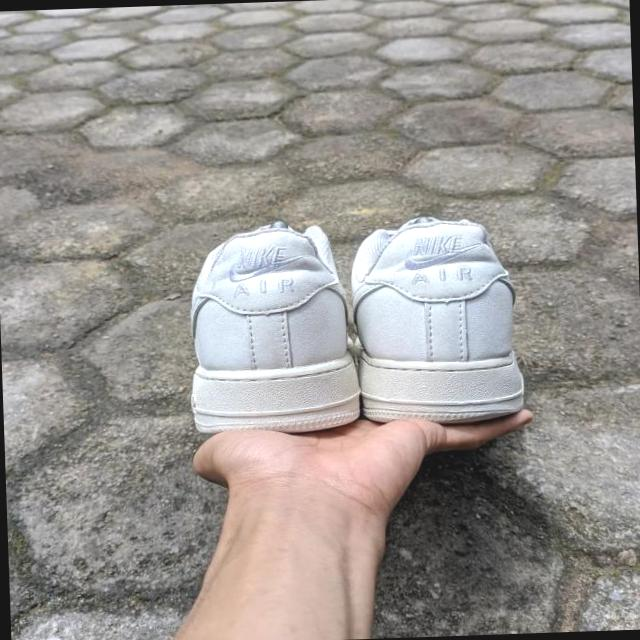nike_fake_airforce: (346, 212, 526, 424), (185, 224, 361, 439)
